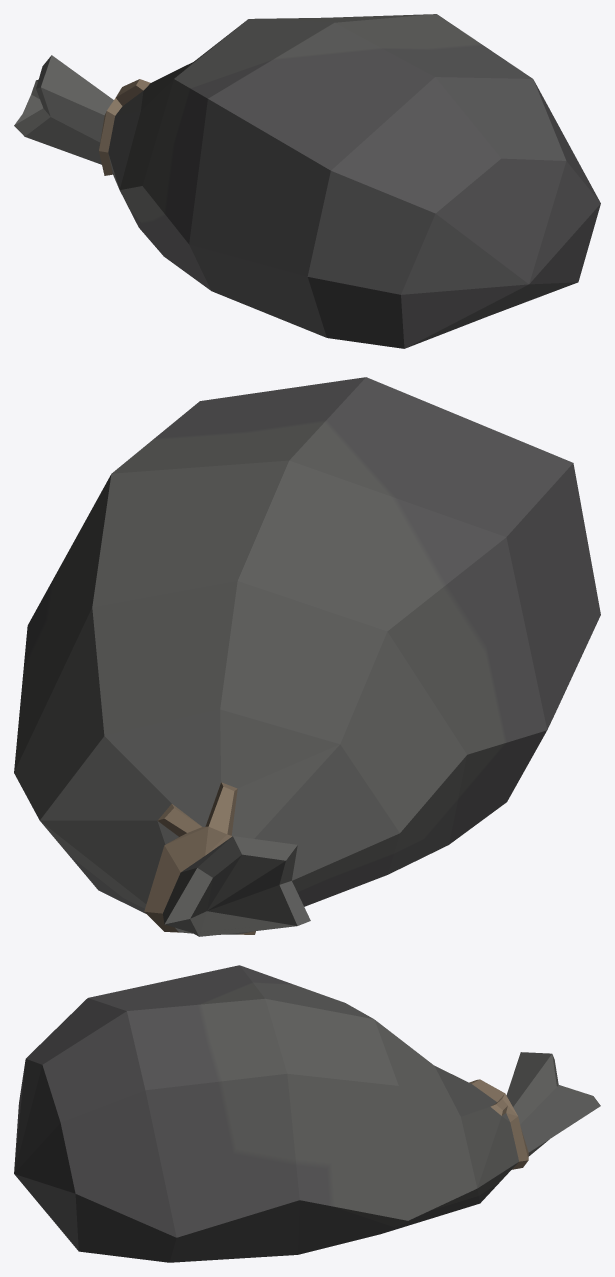
File: SM_Prop_Rubbish_Bag_01.glb
3 renders of one model, top to bottom at view 1: azimuth 30°, elevation 25°; view 2: azimuth 150°, elevation 25°; view 3: azimuth 270°, elevation 25°, orthographic. The views are drawn at different scales.
Visible parts, largest first — view 1: SM_Prop_Rubbish_Bag_01; view 2: SM_Prop_Rubbish_Bag_01; view 3: SM_Prop_Rubbish_Bag_01.
Boxes of the visible parts, x1=… form: SM_Prop_Rubbish_Bag_01: x1=14, y1=14, x2=600, y2=348; SM_Prop_Rubbish_Bag_01: x1=14, y1=377, x2=600, y2=936; SM_Prop_Rubbish_Bag_01: x1=14, y1=965, x2=600, y2=1262.
Bounding box in the file's own units: 0.6166 × 0.3735 × 0.9968.
Materials: 1 (1 with a texture image).
